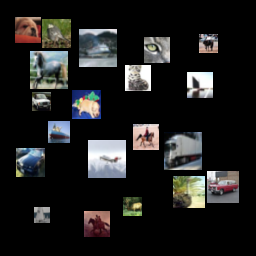airplane: (68, 209, 106, 247)
automobile: (32, 63, 64, 95), (191, 176, 220, 205), (131, 94, 150, 113)
bird: (128, 6, 154, 32), (90, 3, 109, 22)
deer: (193, 77, 228, 112), (43, 124, 69, 150)
dog: (112, 136, 150, 174), (163, 15, 201, 53), (155, 72, 190, 107), (42, 154, 74, 186)
frog: (190, 135, 222, 167), (14, 123, 33, 142)
ship: (109, 192, 144, 227), (75, 73, 107, 105), (107, 41, 129, 63)
